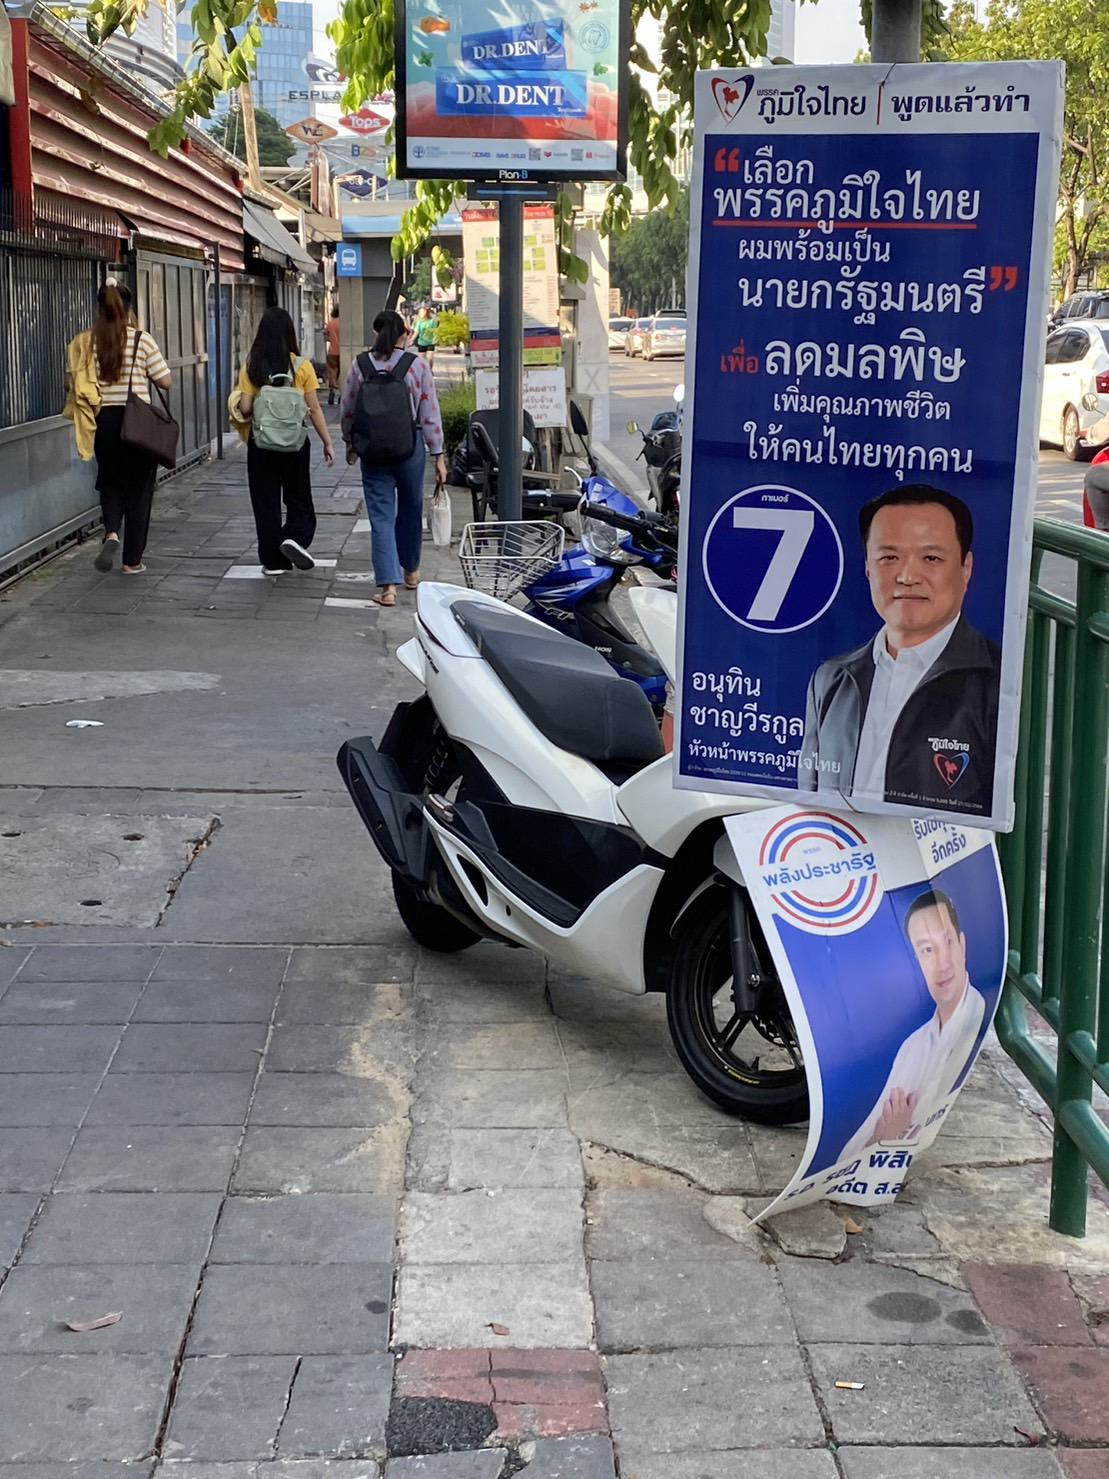Banner: (654, 62, 1061, 830)
